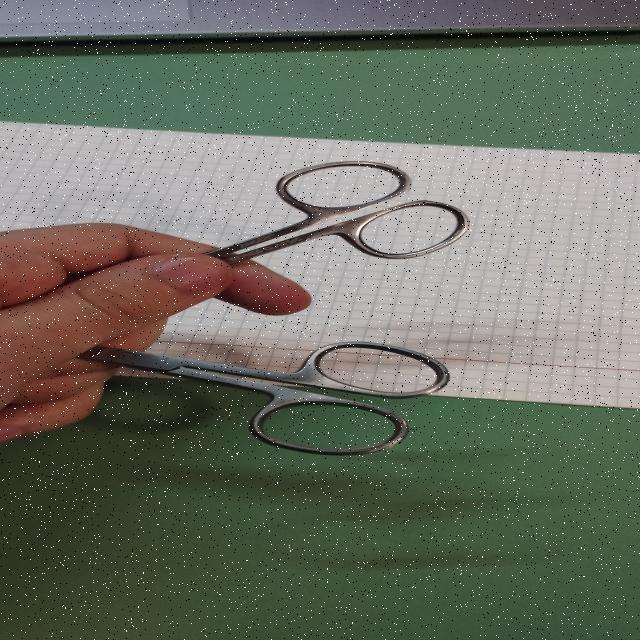scissors: (85, 156, 476, 312), (0, 333, 462, 461)
